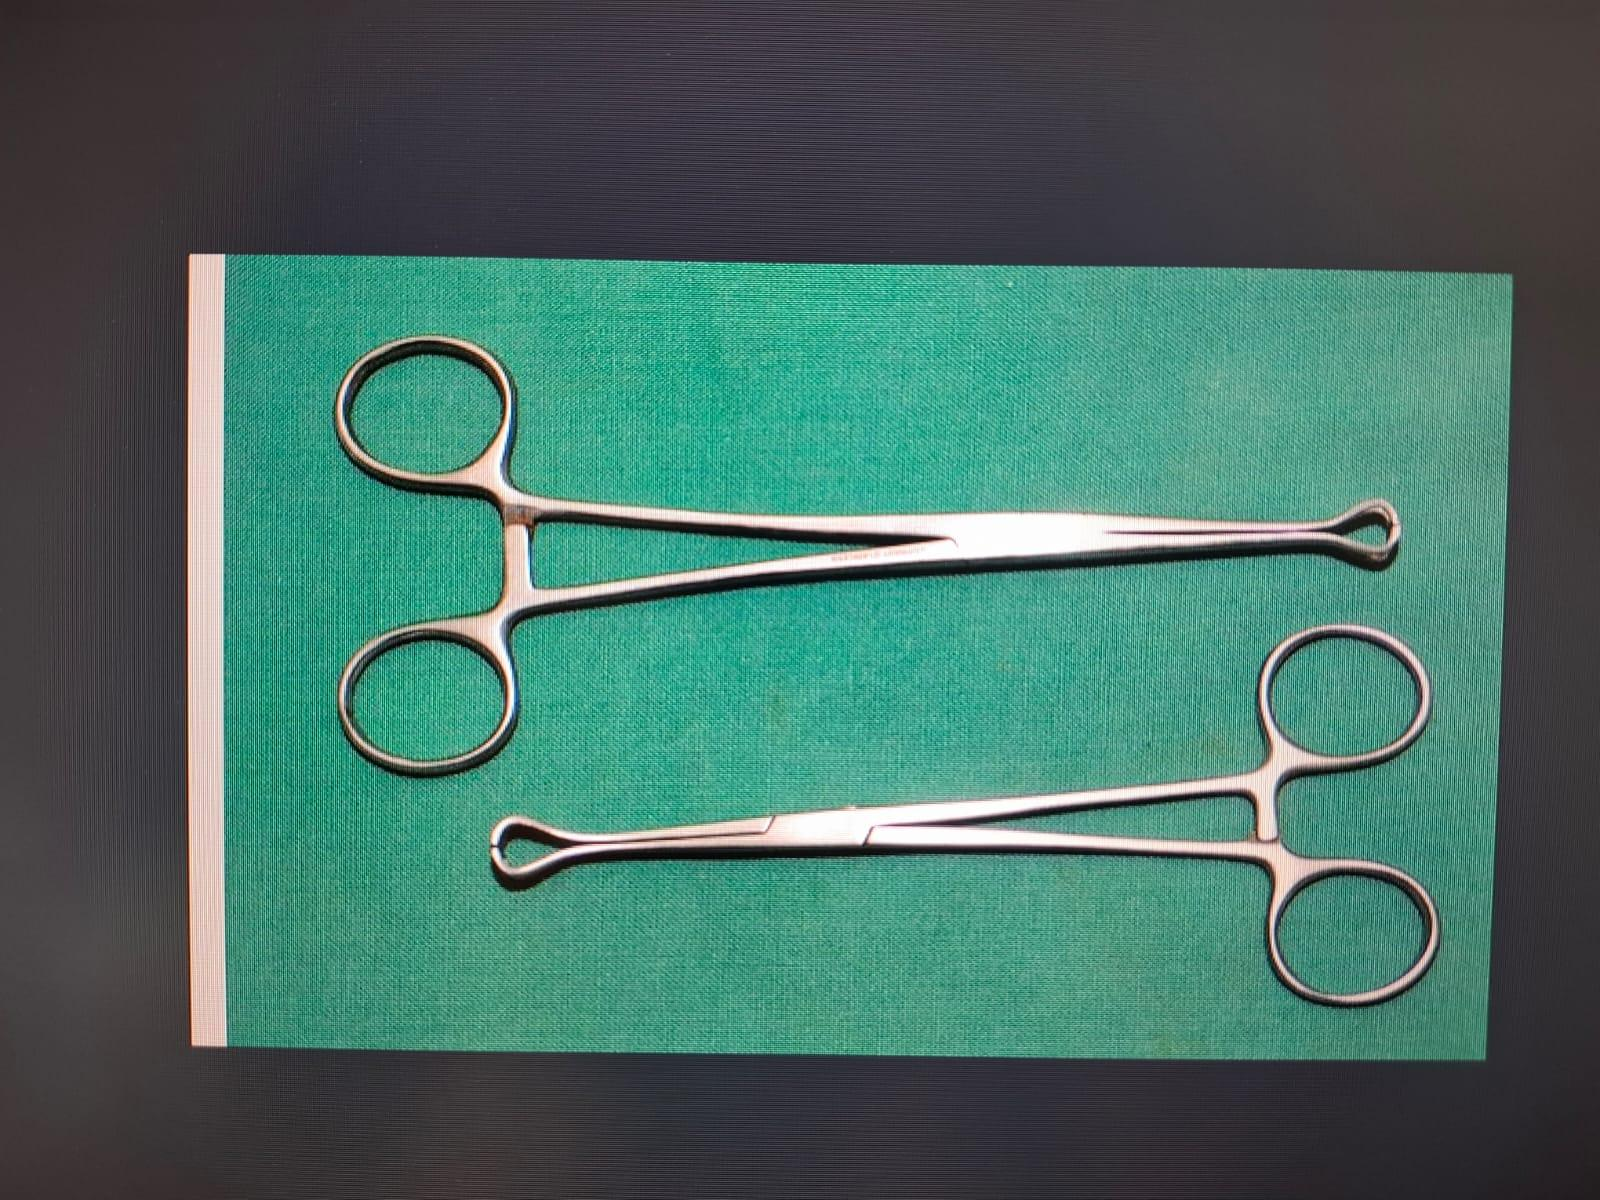Babcock Forceps: (316, 314, 1422, 782), (483, 616, 1450, 1022)
